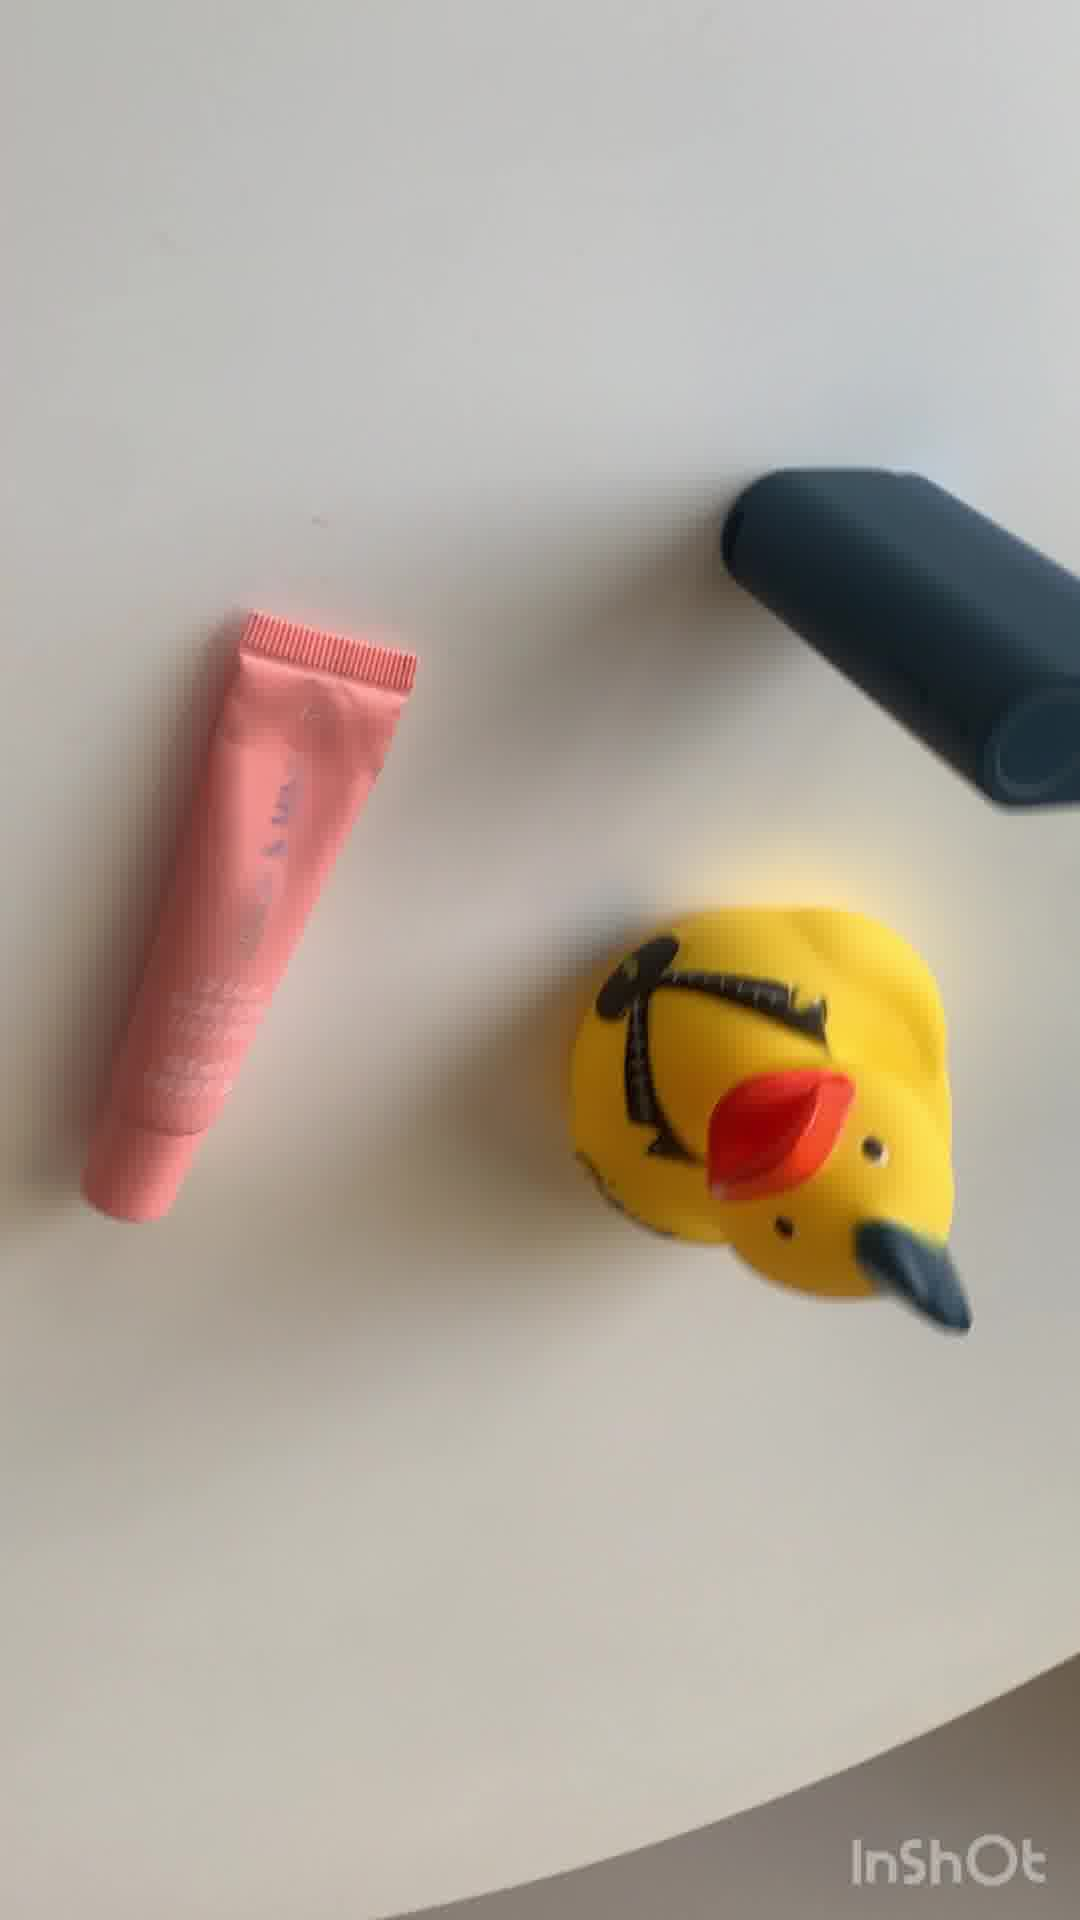duck: (580, 905, 972, 1349)
glo: (721, 464, 1080, 816)
lip balm: (73, 608, 426, 1228)
